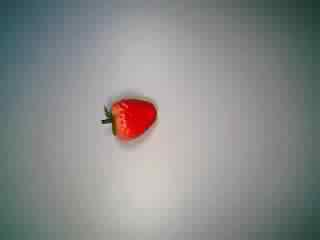strawberry: (100, 85, 166, 151)
